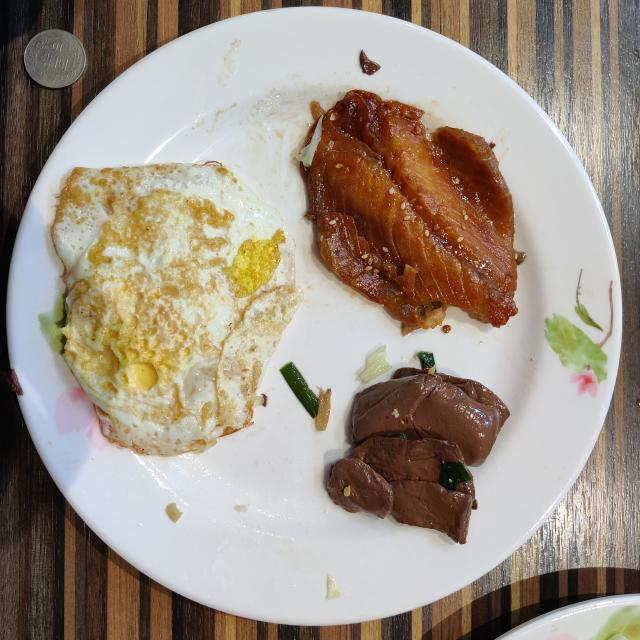Kabayaki sea bream fillet: (301, 90, 518, 331)
coin: (24, 29, 86, 88)
pig blood curd: (328, 369, 509, 544)
